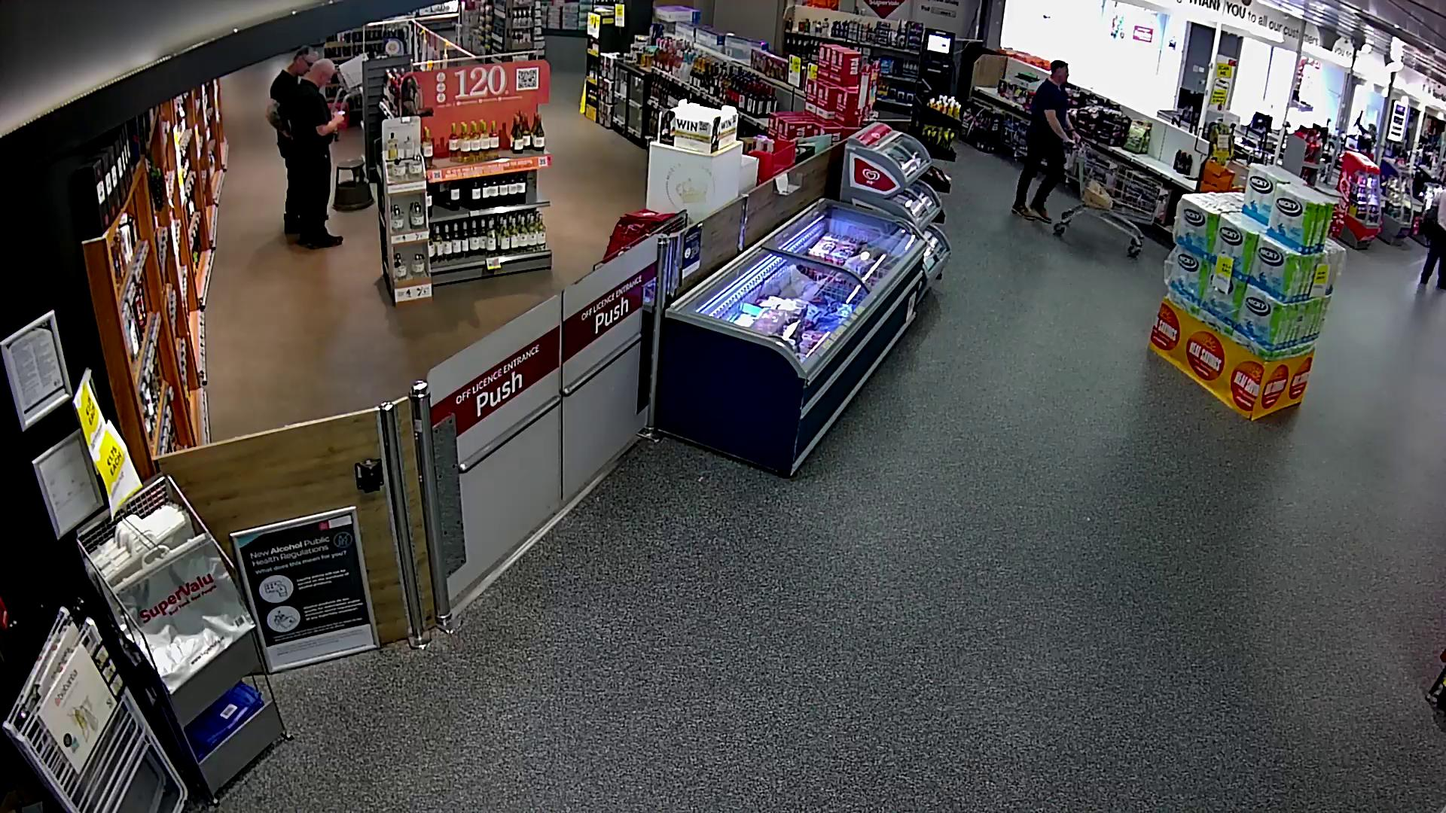filled-shopping-bags: (1083, 177, 1113, 209)
filled-trolly: (1054, 145, 1162, 255)
person: (1012, 60, 1080, 223)
person-with-basket-trolly-and-shopping-bag: (1012, 59, 1163, 256)
